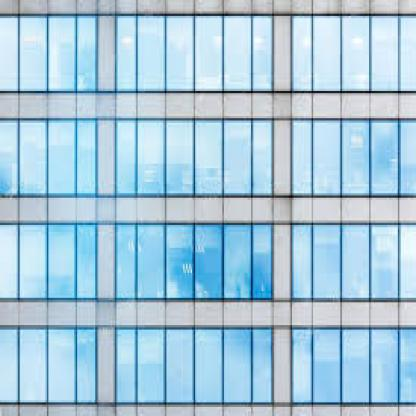window: (345, 122, 367, 188), (345, 18, 366, 86), (316, 18, 336, 86), (316, 334, 337, 398), (345, 334, 366, 398), (227, 230, 248, 293), (345, 230, 366, 293), (23, 21, 44, 84), (375, 18, 395, 84), (141, 336, 162, 398), (375, 334, 395, 398), (198, 21, 218, 84), (170, 334, 189, 400), (228, 20, 247, 86), (227, 125, 246, 191), (171, 232, 191, 293), (23, 230, 42, 293), (228, 337, 247, 400), (23, 122, 41, 188), (318, 230, 337, 291), (198, 334, 216, 398), (53, 334, 71, 398), (171, 125, 189, 189), (318, 125, 336, 189), (375, 125, 393, 189), (53, 125, 71, 189), (52, 232, 70, 295), (53, 21, 71, 84), (141, 232, 160, 291), (23, 334, 41, 396), (200, 127, 218, 189), (200, 232, 218, 293), (142, 125, 159, 189), (375, 230, 392, 293), (170, 20, 187, 82), (142, 20, 159, 82), (80, 20, 94, 86), (120, 122, 133, 188), (119, 230, 132, 293), (119, 337, 132, 400), (119, 21, 132, 84), (295, 332, 307, 398), (256, 334, 268, 398), (80, 334, 92, 398), (80, 125, 92, 189), (257, 232, 269, 293), (80, 232, 92, 293), (297, 232, 308, 293), (297, 20, 307, 86), (256, 18, 266, 82), (256, 125, 266, 189), (297, 125, 307, 186)
